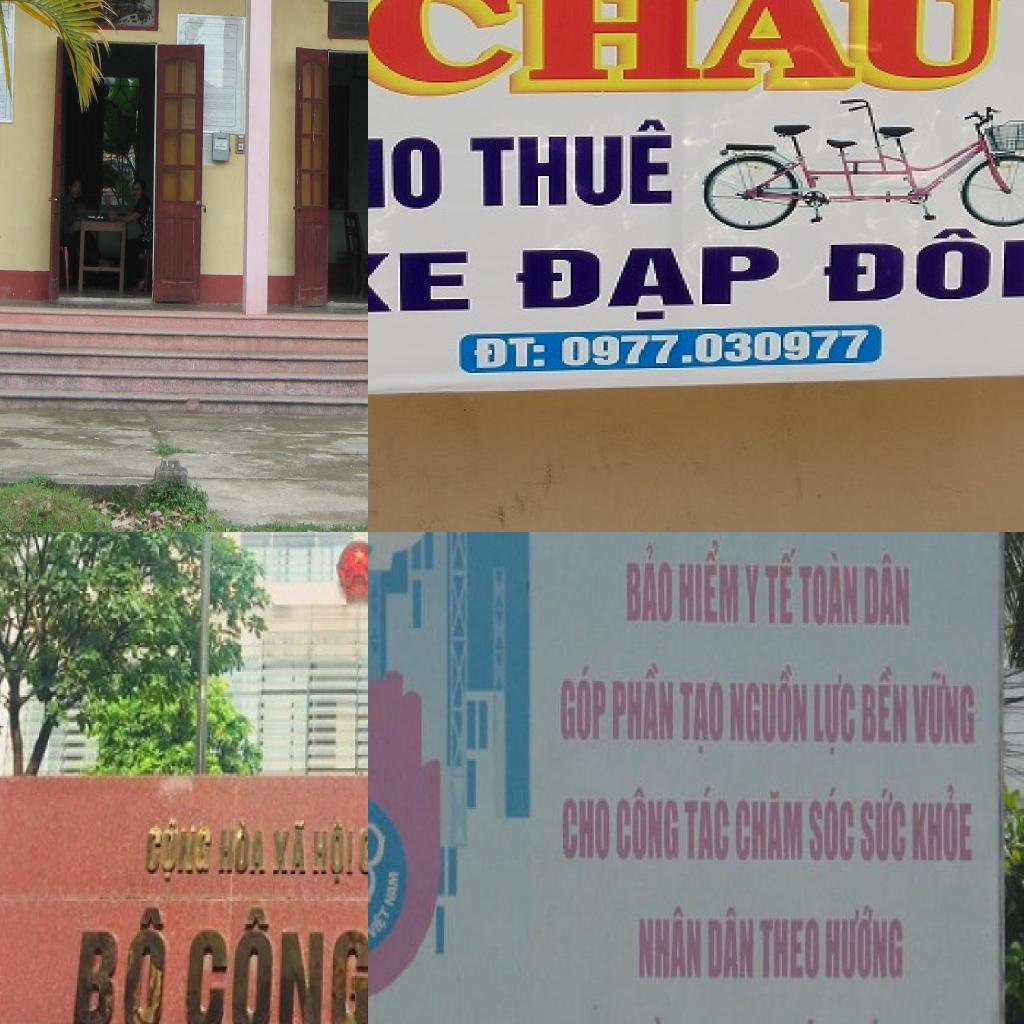text: (368, 0, 1024, 103), (508, 240, 796, 330), (182, 906, 368, 1024), (466, 116, 682, 212), (811, 223, 1024, 314), (68, 906, 170, 1024), (368, 245, 481, 324), (822, 901, 912, 985), (368, 131, 450, 215), (730, 664, 810, 744), (632, 898, 706, 984), (910, 662, 982, 749), (608, 662, 677, 748), (674, 539, 742, 623), (908, 782, 976, 865), (735, 788, 806, 866), (613, 783, 682, 862), (613, 540, 676, 626), (798, 551, 864, 628), (858, 659, 912, 749), (142, 818, 214, 884), (678, 780, 732, 865), (755, 915, 822, 983), (557, 787, 613, 865), (556, 664, 610, 744), (804, 785, 858, 865), (705, 904, 758, 983), (810, 669, 858, 756), (862, 554, 914, 634), (856, 786, 909, 864), (678, 674, 724, 754), (466, 334, 555, 373), (216, 816, 269, 878), (310, 820, 358, 888), (766, 542, 802, 624), (268, 818, 310, 878), (368, 899, 396, 948), (745, 560, 764, 628), (356, 808, 368, 878), (384, 870, 400, 916)
